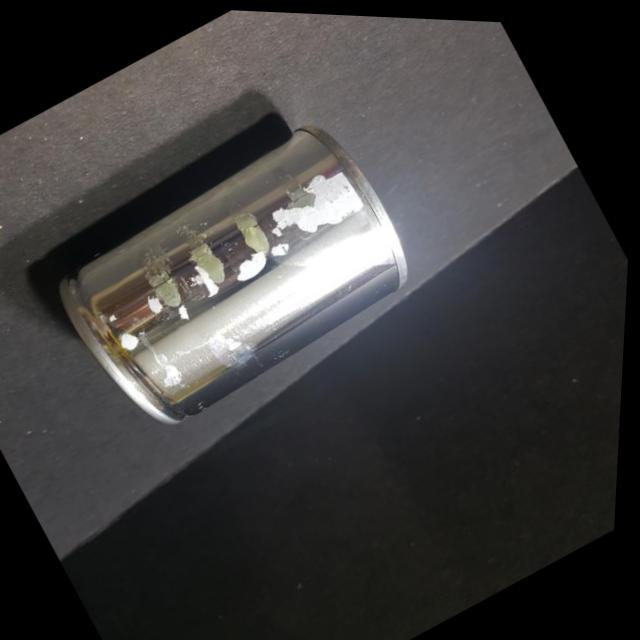metal: (44, 127, 406, 431)
